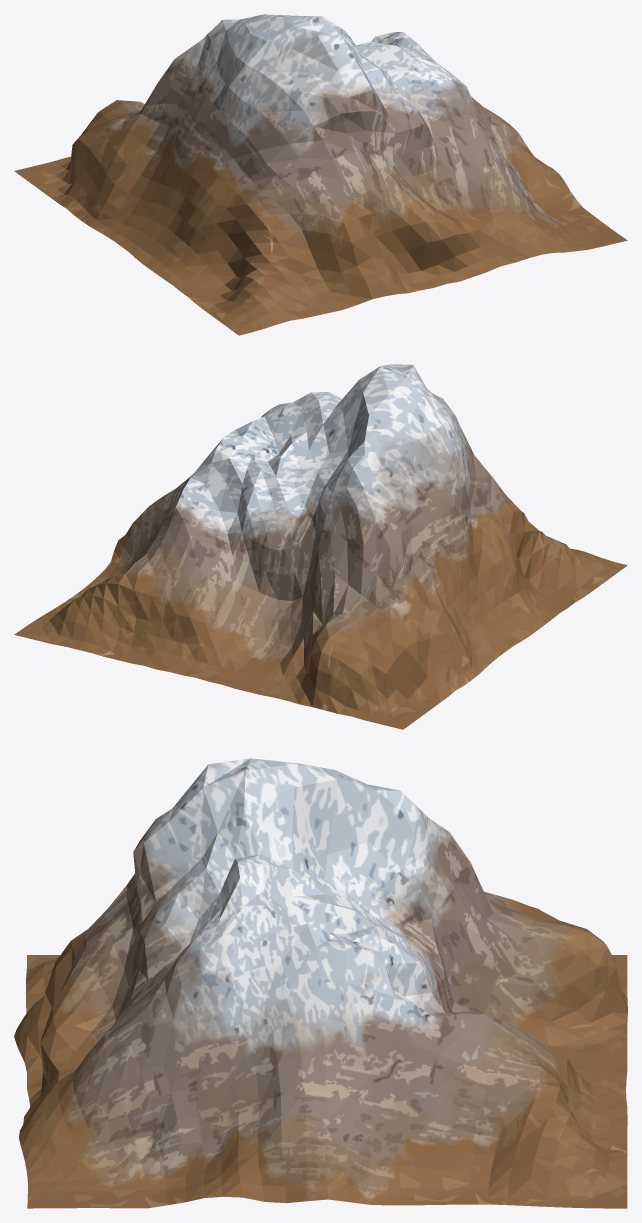
File: m_mountain02.fbx
The picture shows the model from 3 angles, top to bottom: view 1: azimuth 30°, elevation 25°; view 2: azimuth 150°, elevation 25°; view 3: azimuth 270°, elevation 25°; orthographic projection. The views are drawn at different scales.
Visible parts, largest first — view 1: pPlane49; view 2: pPlane49; view 3: pPlane49.
Part boxes in pixels (box(x1,y1,x2,y2)): pPlane49: box(14, 14, 627, 335); pPlane49: box(14, 364, 627, 729); pPlane49: box(14, 758, 627, 1208).
Bounding box in the file's own units: 1452 × 767 × 1456.
1 material, 1 textured.
